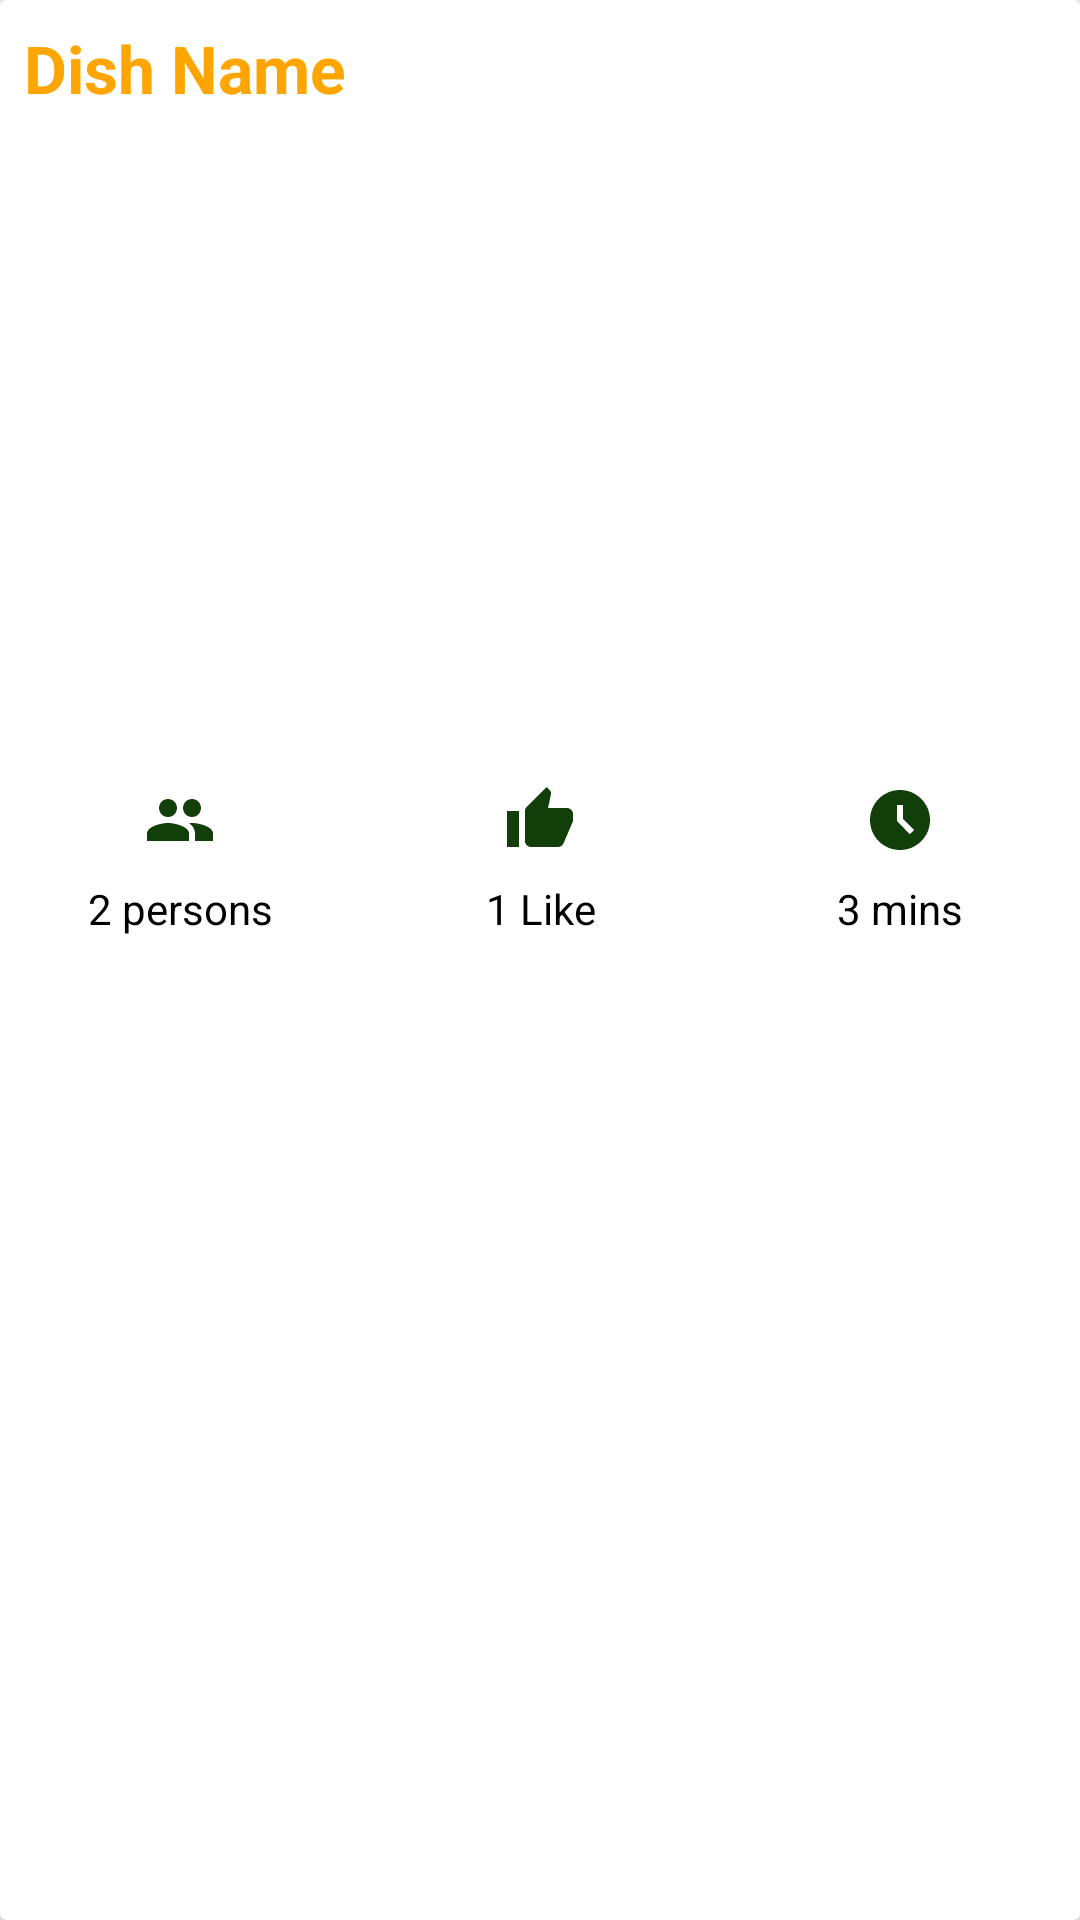

Where to tap for icons on this 1080px x 1920px app screen, as point (x, y):
servings: point (180, 820)
time: point (900, 820)
